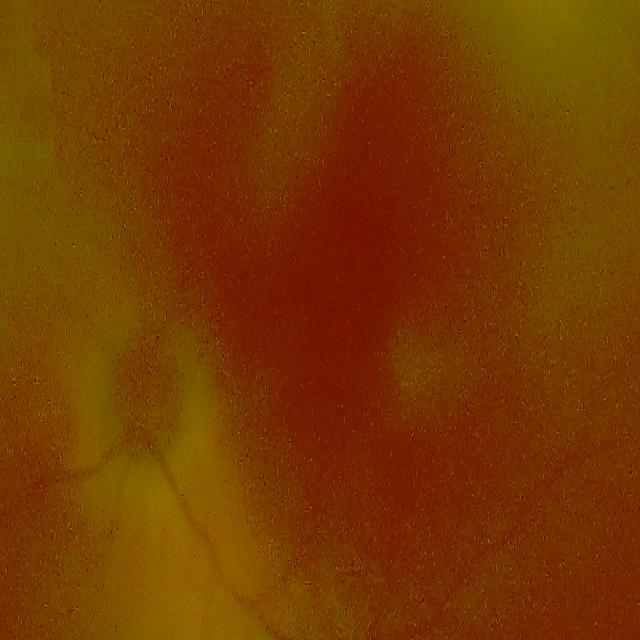optic-nerve: (104, 318, 188, 475)
